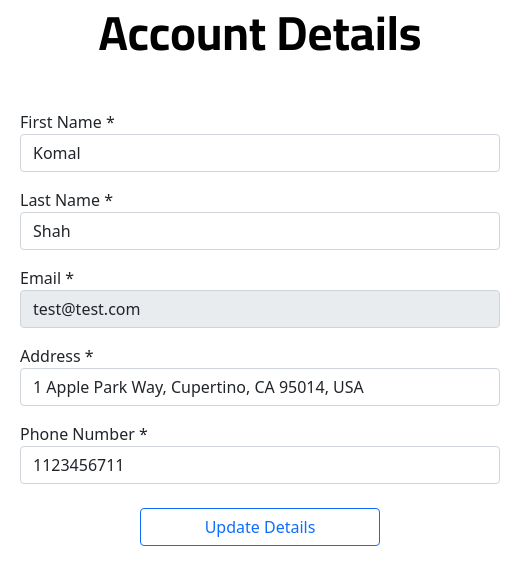
Check if Data is updated correctly.
Type "test" into the field labelled "First Name *". click: (260, 153)
box: x1=20 y1=134 x2=500 y2=172
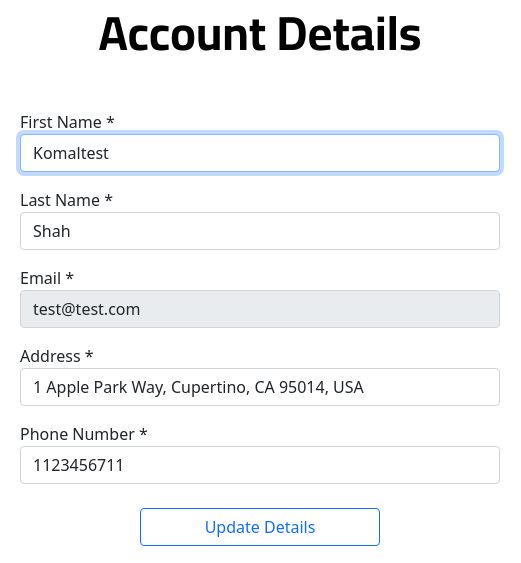
Expected: the field labelled "First Name *" holds "Komaltest", x1=20 y1=134 x2=500 y2=172
Type "test" into the field labelled "Last Name *". click: (260, 231)
box: x1=20 y1=212 x2=500 y2=250
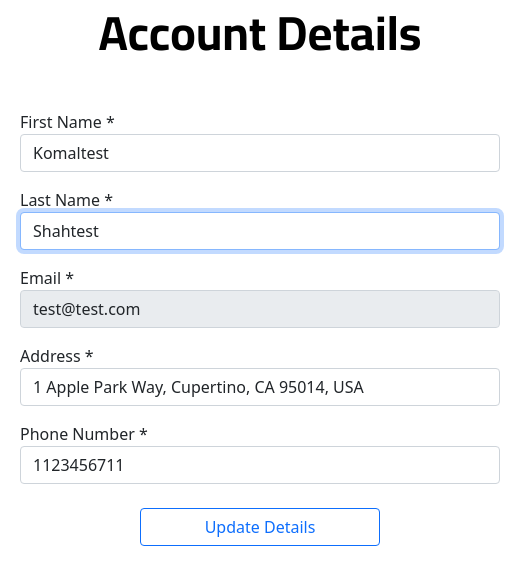
Expected: the field labelled "Email *" holds "test@test.com", x1=20 y1=290 x2=500 y2=328
Expected: the field labelled "Last Name *" holds "Shahtest", x1=20 y1=212 x2=500 y2=250
Type "test" into the field labelled "Address *". click: (260, 387)
box: x1=20 y1=368 x2=500 y2=406
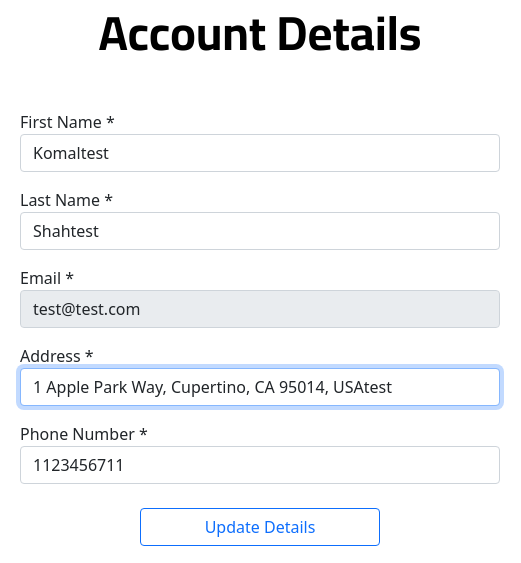
Expected: the number field labelled "Phone Number *" holds "1123456711", x1=20 y1=446 x2=500 y2=484
Expected: the field labelled "Address *" holds "1 Apple Park Way, Cupertino, CA 95014, USAtest", x1=20 y1=368 x2=500 y2=406
